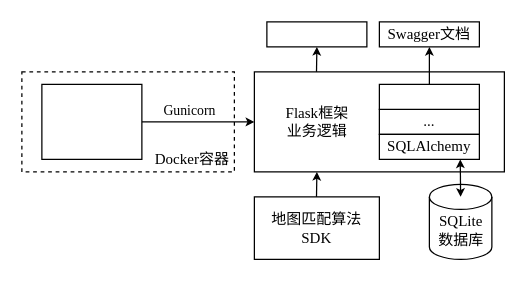
Image size: 526x281. Some labels were removed from this diagram. The shapes that lost their labels are listed below. From the top down, each one's box as (x1, y1, x2, y2) in pixels, then its label:
(266, 21, 367, 47): RESTful API
(378, 83, 479, 109): Flasgger
(41, 83, 142, 159): 基于 Nginx 的 Web 服务器
